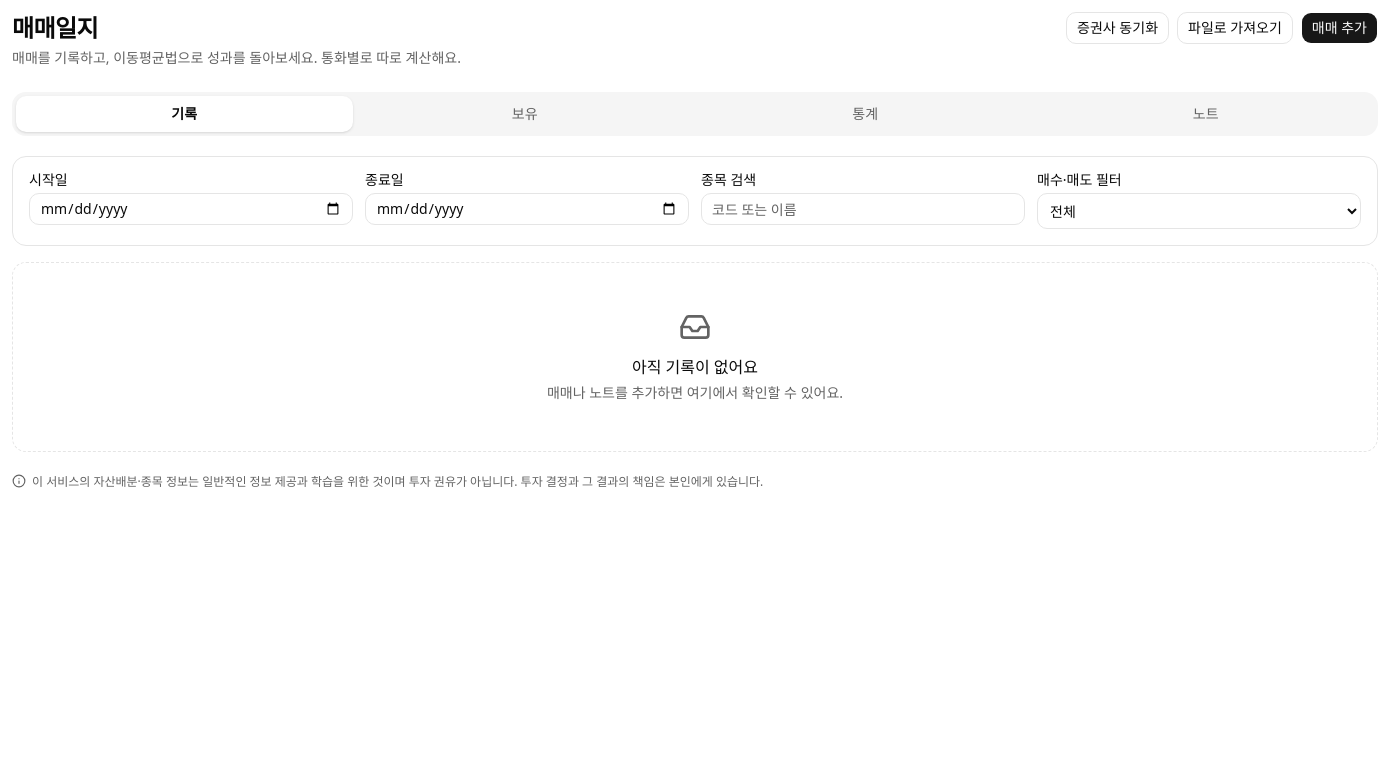
Test: 매매일지 증권사 동기화 버튼 › 모든 연결이 실패하면 매매일지 목록을 다시 불러오지 않는다
Click the button "증권사 동기화": (1118, 28) [1066,12,1169,44]
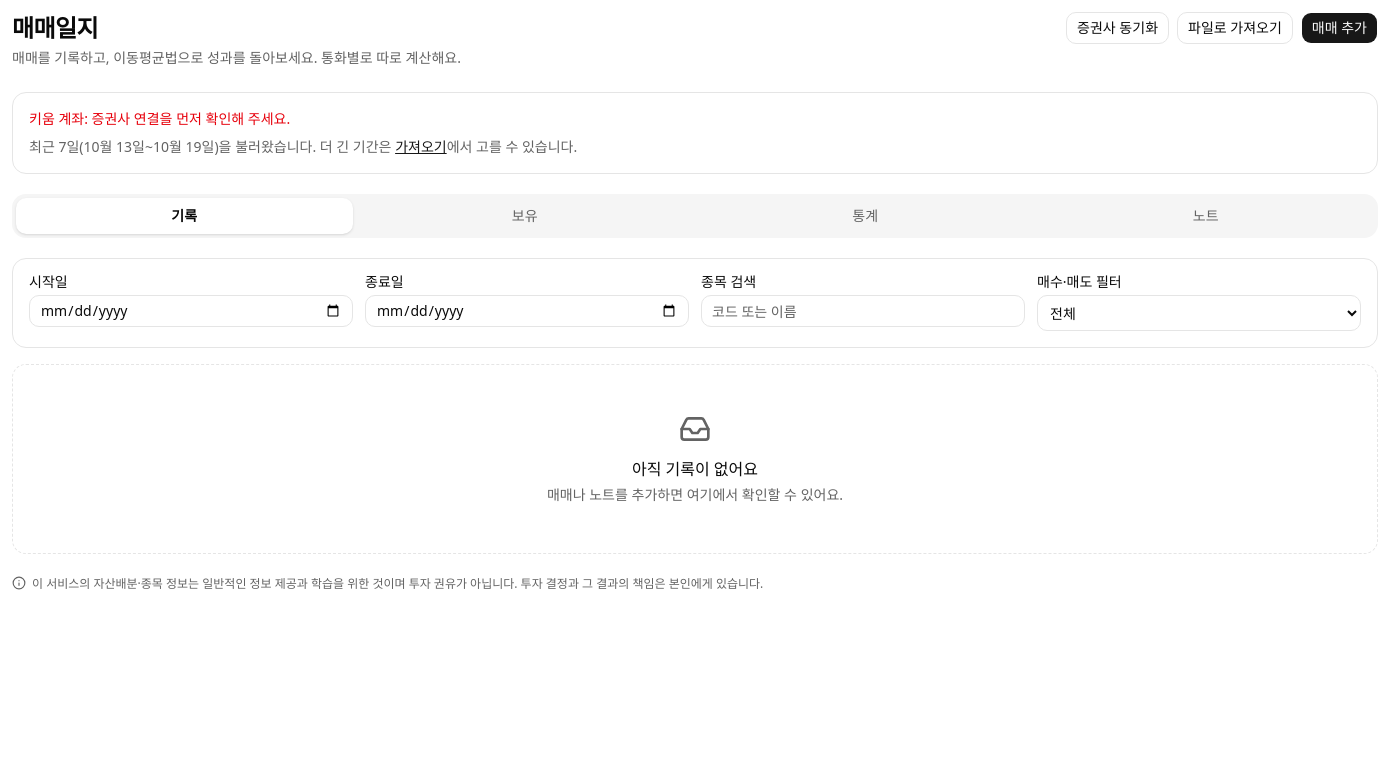
Now the text "키움 계좌: 증권사 연결을 먼저 확인해 주세요." is shown, box [29,109,290,129]
